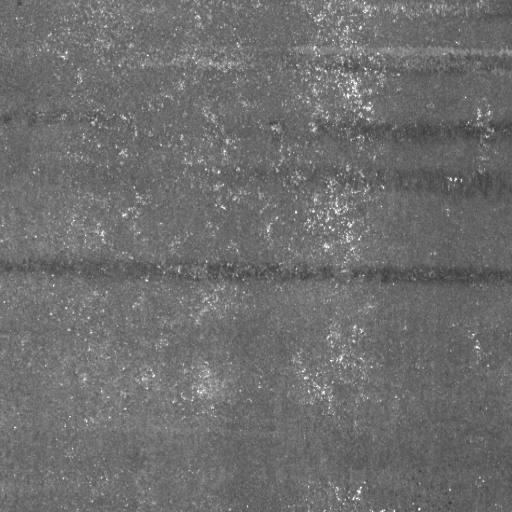hengxianghuashang: (1, 256, 512, 290), (290, 162, 509, 199), (309, 50, 512, 82), (311, 115, 512, 146)
